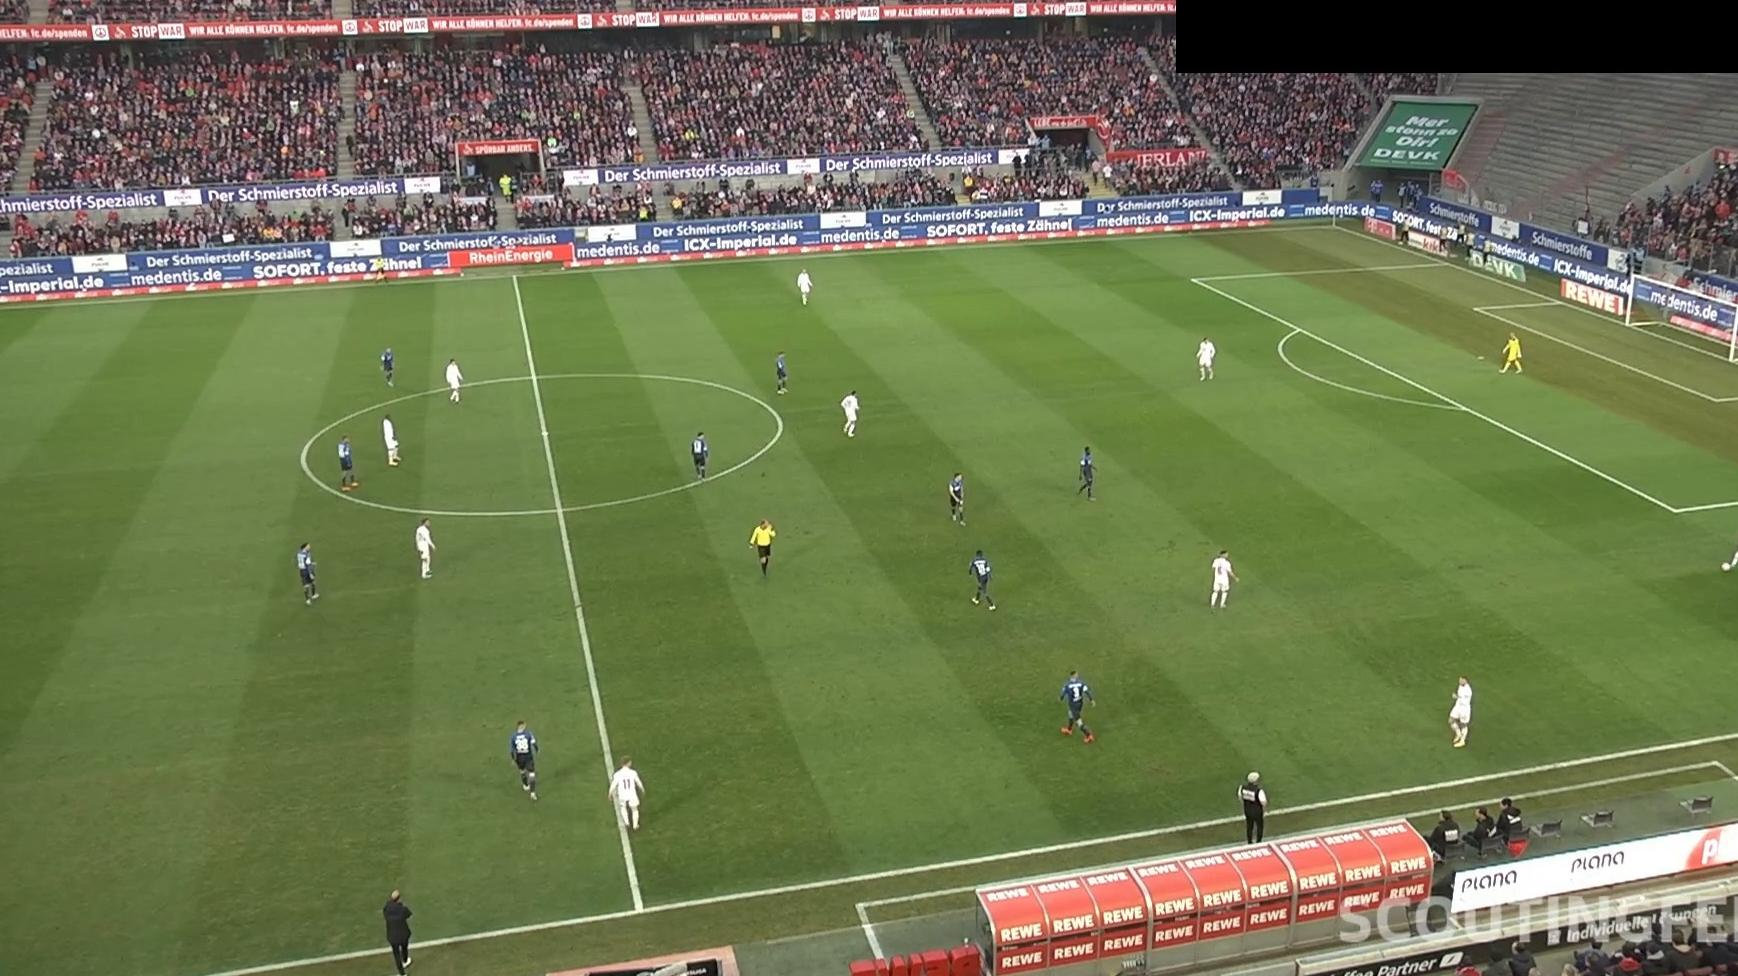ball: (1720, 561, 1732, 573)
